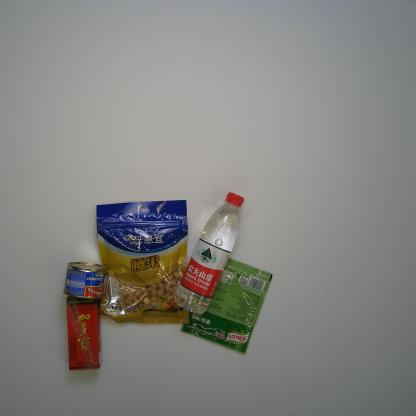Canned Food: (62, 261, 108, 300)
Dried Fruit: (95, 199, 191, 326)
Drink: (174, 191, 244, 317), (66, 295, 102, 371)
Seasoner: (179, 258, 273, 356)
